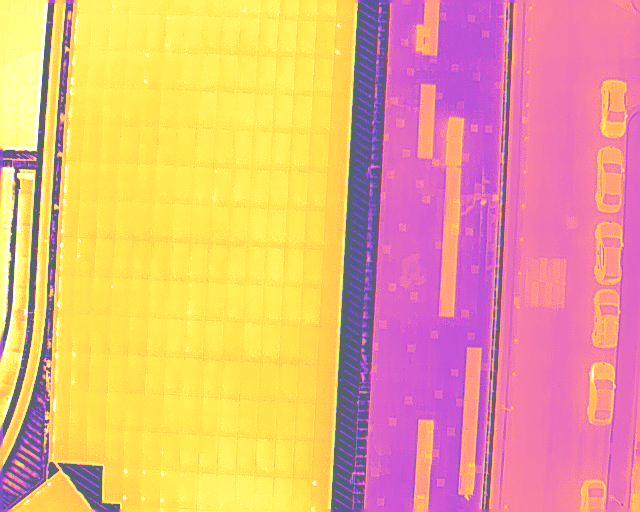Cell: (312, 480, 330, 511)
Cell-Multi: (71, 352, 90, 393), (142, 53, 164, 88), (139, 468, 160, 504), (333, 23, 352, 62), (165, 15, 184, 53), (76, 238, 95, 276), (66, 125, 84, 163), (122, 467, 141, 502), (60, 238, 77, 276), (62, 201, 79, 238), (161, 470, 179, 504)
No-Anomaly: (181, 396, 204, 434), (88, 352, 109, 392), (305, 209, 326, 249), (283, 248, 304, 288), (245, 245, 266, 285), (219, 361, 241, 399), (182, 358, 204, 396), (254, 438, 276, 476), (292, 441, 314, 479), (201, 15, 222, 54), (185, 282, 206, 321), (223, 284, 244, 323), (212, 168, 233, 207), (170, 204, 191, 243), (235, 438, 257, 475), (233, 130, 253, 170), (261, 323, 281, 363), (242, 322, 262, 362), (239, 16, 259, 56), (264, 246, 284, 286), (132, 240, 152, 280), (189, 243, 209, 283), (303, 249, 323, 289), (143, 394, 164, 432), (292, 95, 313, 133), (296, 20, 317, 58), (276, 402, 297, 440), (199, 397, 220, 435), (121, 88, 142, 126), (311, 442, 332, 480), (274, 440, 295, 478), (112, 240, 133, 278), (297, 364, 317, 403), (253, 131, 273, 170), (309, 133, 329, 172), (110, 315, 130, 354), (164, 357, 184, 396), (223, 322, 243, 361), (140, 87, 160, 126), (166, 281, 186, 320), (319, 288, 339, 327), (94, 239, 114, 278), (323, 210, 343, 249), (80, 162, 100, 201), (286, 209, 306, 248), (169, 242, 189, 281), (207, 244, 227, 283), (129, 278, 149, 317), (277, 363, 298, 400), (216, 437, 237, 474), (262, 286, 283, 323), (282, 287, 303, 324), (242, 285, 263, 322), (300, 288, 321, 325), (236, 56, 257, 93), (198, 54, 219, 91), (217, 91, 237, 129), (125, 393, 145, 431), (177, 128, 197, 166), (328, 134, 348, 172), (299, 326, 319, 364), (165, 320, 185, 358), (203, 321, 223, 359), (239, 362, 259, 400), (145, 356, 165, 394), (103, 86, 122, 126), (197, 91, 217, 129), (201, 360, 221, 398), (126, 355, 146, 393), (257, 400, 277, 438), (238, 400, 258, 438), (198, 435, 218, 473), (205, 283, 225, 321), (90, 314, 110, 352), (78, 200, 98, 238), (173, 166, 193, 204), (134, 202, 154, 240), (248, 208, 268, 246), (275, 56, 295, 94), (256, 55, 276, 93), (294, 404, 315, 440), (293, 59, 314, 95), (121, 125, 140, 164), (158, 126, 177, 165), (100, 162, 119, 201), (147, 318, 166, 357), (280, 325, 299, 364), (215, 129, 234, 168), (250, 170, 269, 209), (269, 170, 288, 209), (230, 207, 249, 246), (74, 276, 93, 315), (178, 90, 198, 127), (311, 97, 331, 134), (255, 94, 275, 131), (259, 363, 279, 400), (258, 19, 278, 56), (315, 22, 335, 59), (106, 393, 126, 430), (192, 167, 212, 204), (135, 165, 155, 202), (288, 171, 308, 208), (210, 207, 230, 244), (87, 51, 107, 88), (179, 53, 199, 90), (218, 400, 239, 435), (236, 92, 255, 130), (196, 129, 215, 167), (272, 132, 291, 170), (185, 320, 204, 358), (108, 354, 127, 392), (274, 95, 293, 133), (128, 317, 147, 355), (290, 133, 309, 171), (140, 127, 159, 165), (109, 13, 128, 51), (97, 202, 116, 240), (117, 164, 136, 202), (155, 165, 174, 203), (307, 171, 326, 209), (116, 202, 135, 240), (191, 205, 210, 243), (227, 246, 246, 284), (111, 277, 130, 315), (92, 277, 111, 315), (149, 280, 168, 318), (162, 52, 181, 90), (163, 396, 183, 432), (317, 364, 335, 404), (83, 126, 103, 162), (221, 14, 239, 54), (151, 241, 169, 281), (313, 60, 333, 96), (102, 126, 121, 163), (72, 314, 91, 351), (318, 327, 337, 364), (278, 20, 297, 57), (313, 404, 332, 441), (161, 433, 180, 470), (124, 430, 143, 467), (180, 434, 199, 471), (104, 464, 123, 501), (146, 14, 165, 51), (128, 13, 147, 50), (219, 55, 238, 92), (322, 249, 340, 288), (87, 393, 107, 428), (104, 429, 124, 464), (124, 51, 144, 86), (330, 97, 349, 133), (142, 432, 161, 468), (85, 88, 103, 126), (327, 172, 345, 210), (269, 209, 287, 247), (91, 12, 109, 50), (331, 61, 350, 97), (161, 89, 179, 126), (184, 16, 202, 53), (232, 170, 250, 207), (154, 204, 172, 241), (86, 427, 105, 462), (106, 52, 125, 87), (69, 426, 87, 461), (56, 314, 73, 351), (179, 472, 198, 505), (69, 393, 87, 427), (273, 478, 293, 508), (236, 475, 255, 506), (217, 474, 236, 505), (255, 476, 274, 507), (198, 474, 217, 504), (292, 479, 311, 509)
Unclassified: (54, 351, 71, 393), (71, 51, 90, 88), (57, 276, 75, 315), (69, 88, 87, 126), (74, 13, 91, 51), (52, 426, 69, 462), (65, 162, 81, 200), (53, 392, 71, 425)
